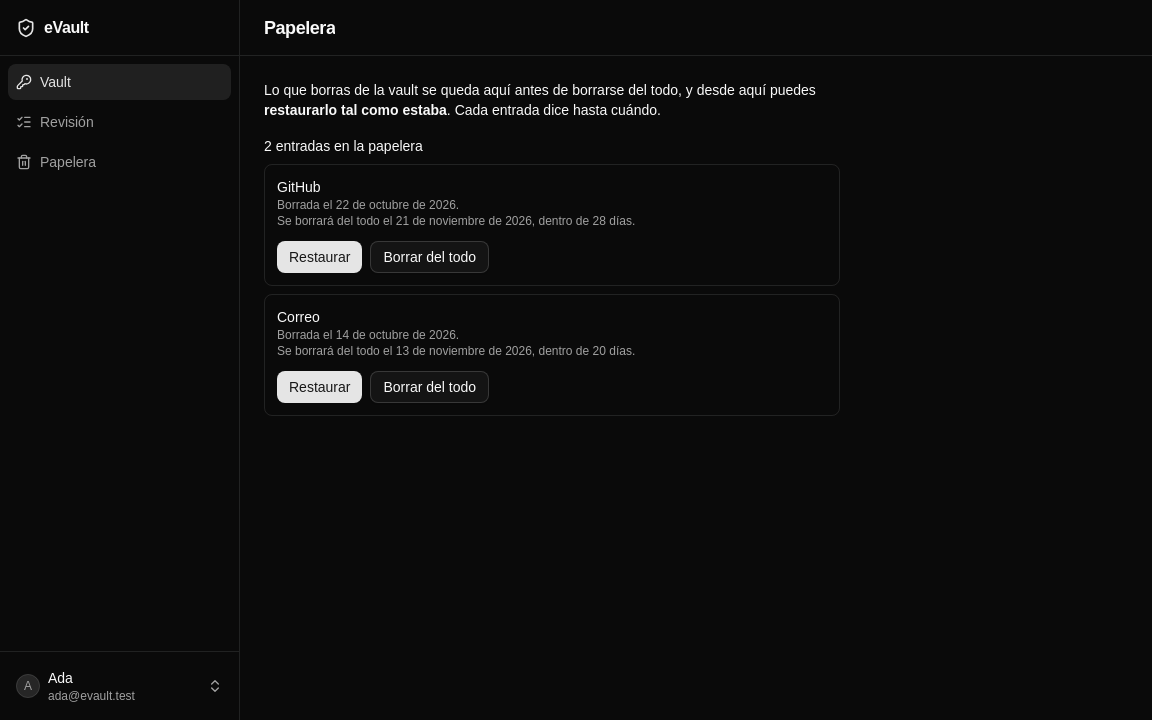
Scenario: restoring › when it fails, says the entry is still in the bin and keeps it there
Click the 1st button "Restaurar" at (320, 257), box [277,241,362,273]
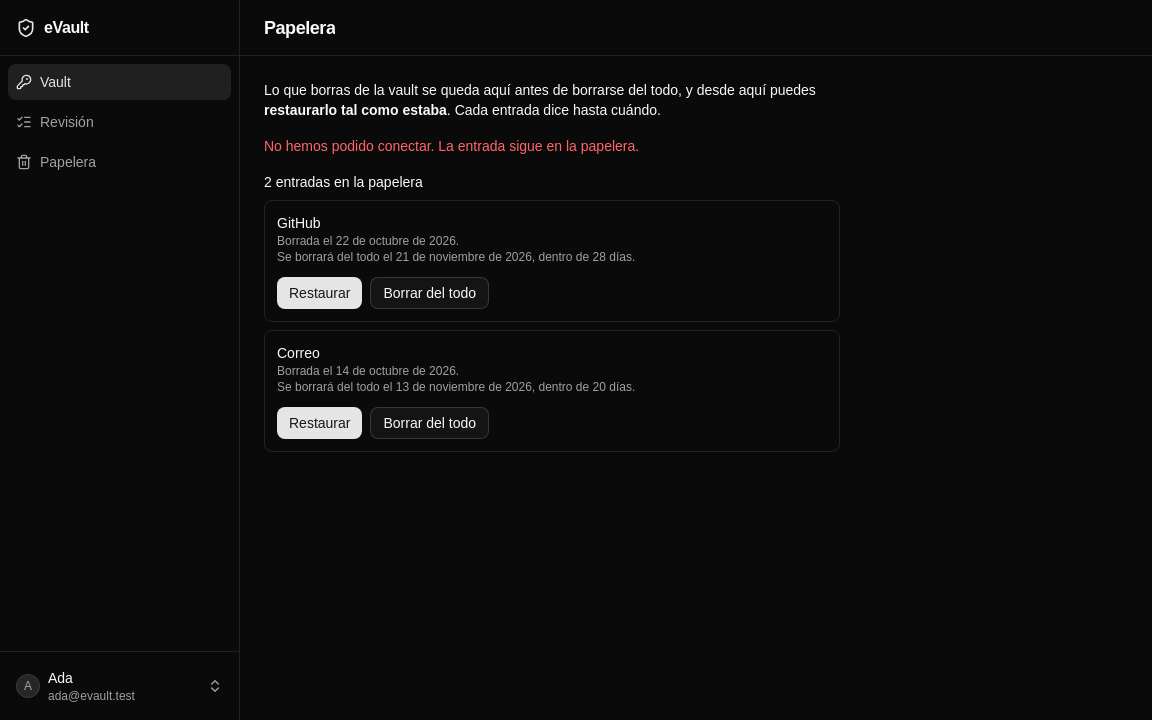
Expected: the text "GitHub" is shown, [277,215,321,231]
Result: the message reads "No hemos podido conectar. La entrada sigue en la papelera." at [264,138,639,154]
